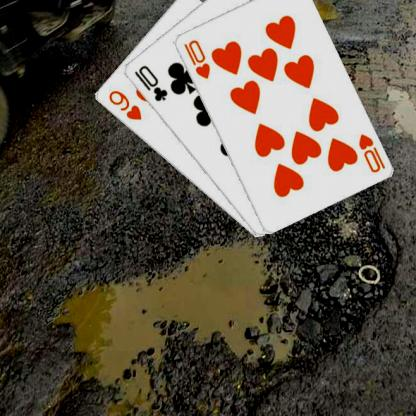10C: (131, 62, 169, 103)
10H: (180, 37, 211, 80), (356, 131, 387, 174)
9H: (105, 87, 143, 122)
